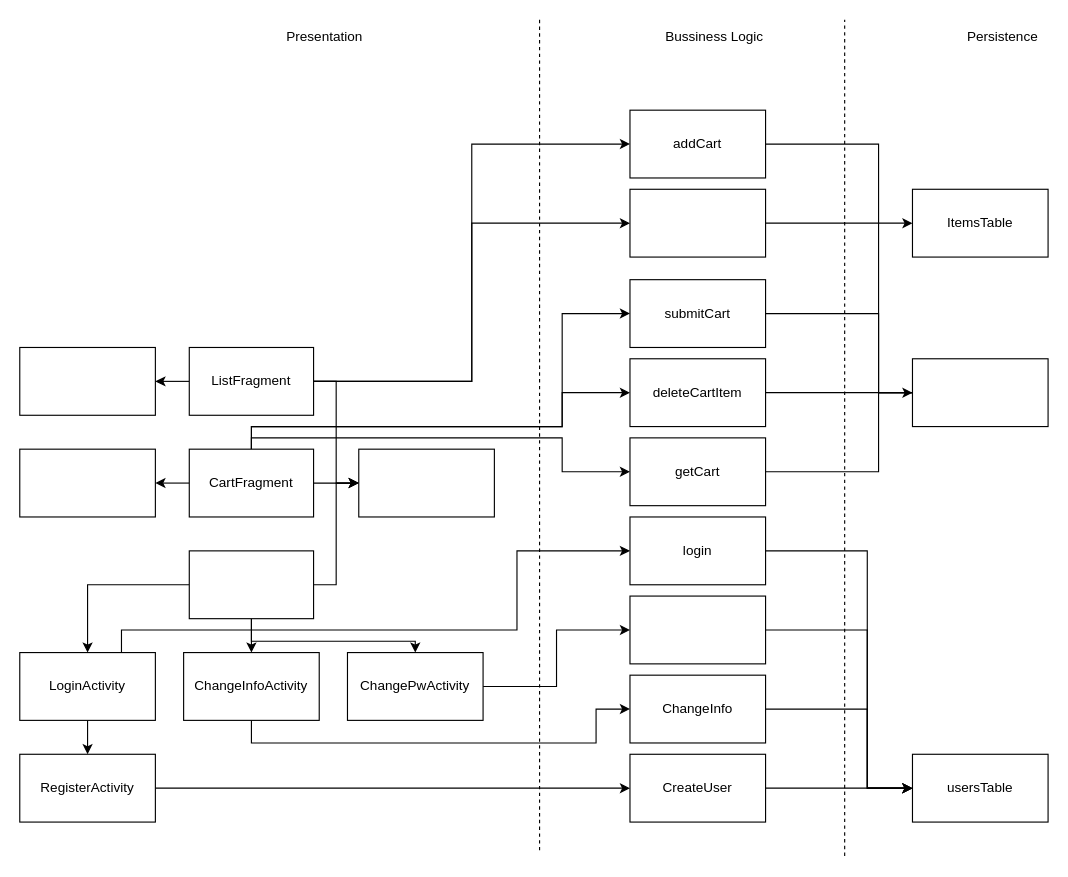
This 1068x877 diagram has some shape labels left out. The shapes that lost their labels are listed below. From the top down, each one's box as (x1, y1, x2, y2) in pixels, then its label:
(629, 188, 766, 257): getItemList
(19, 346, 155, 415): DetailActivity
(911, 358, 1048, 427): cartTable
(19, 448, 155, 517): SubmitActivity
(358, 448, 494, 517): MainActivity
(188, 550, 314, 619): UserFragment
(629, 595, 766, 664): ChangePw
